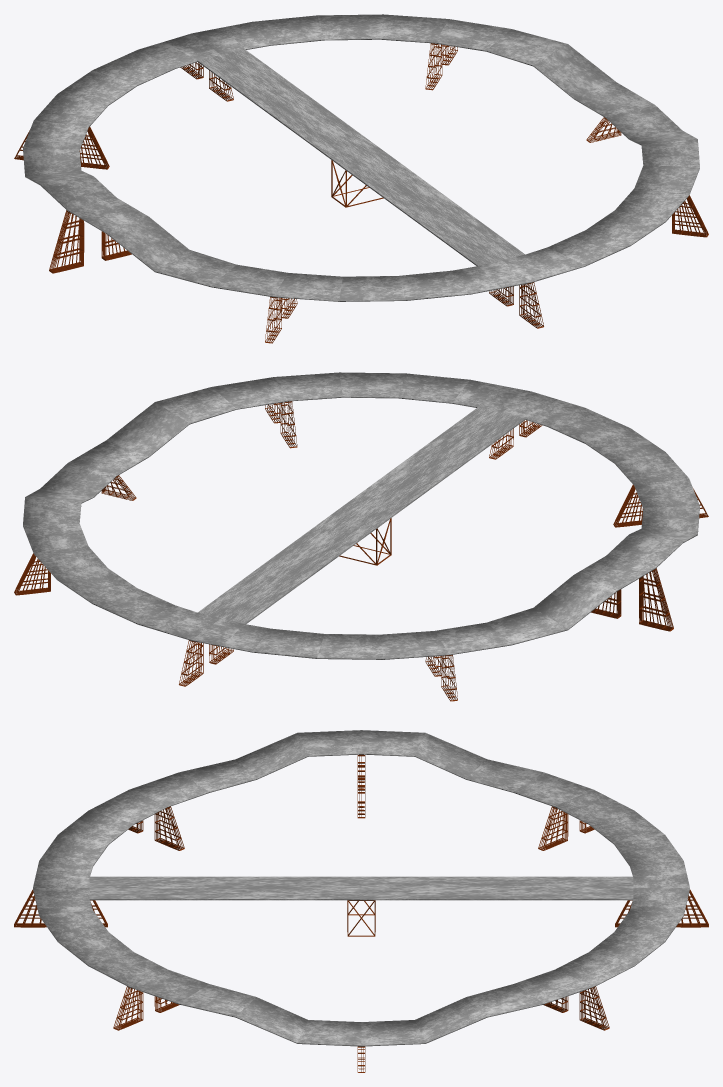
File: World.gltf
The picture shows the model from 3 angles, top to bottom: view 1: azimuth 30°, elevation 25°; view 2: azimuth 150°, elevation 25°; view 3: azimuth 270°, elevation 25°; orthographic projection. The views are drawn at different scales.
Parts seen in each view (by area): view 1: Cube for bridge complete, Cylinder.003, Cylinder.001, Cylinder.004, Cylinder.002, New Strut.008, New Strut.001, New Strut.006, New Strut.005, New Strut.007, New Strut.004, New Strut.003; view 2: Cube for bridge complete, Cylinder.001, Cylinder.003, Cylinder.004, Cylinder.002, New Strut.008, New Strut.003, New Strut.007, New Strut.004, New Strut.006, New Strut.005, New Strut.001; view 3: Cube for bridge complete, Cylinder.002, Cylinder.004, Cylinder.001, Cylinder.003, New Strut.007, New Strut.006, New Strut.005, New Strut.004, New Strut.003, New Strut.001.
Boxes of the visible parts, bbox=[...] form: Cube for bridge complete: bbox=[197, 49, 524, 266]; Cylinder.003: bbox=[273, 188, 689, 301]; Cylinder.001: bbox=[34, 14, 448, 127]; Cylinder.004: bbox=[23, 120, 287, 297]; Cylinder.002: bbox=[434, 19, 699, 194]; New Strut.008: bbox=[49, 210, 131, 273]; New Strut.001: bbox=[489, 282, 543, 328]; New Strut.006: bbox=[672, 195, 708, 237]; New Strut.005: bbox=[265, 297, 297, 343]; New Strut.007: bbox=[425, 43, 457, 90]; New Strut.004: bbox=[14, 127, 109, 169]; New Strut.003: bbox=[180, 62, 233, 101]; Cube for bridge complete: bbox=[198, 407, 525, 624]; Cylinder.001: bbox=[33, 546, 449, 659]; Cylinder.003: bbox=[274, 372, 688, 485]; Cylinder.004: bbox=[435, 478, 699, 655]; Cylinder.002: bbox=[23, 377, 288, 552]; New Strut.008: bbox=[591, 568, 673, 631]; New Strut.003: bbox=[179, 640, 233, 686]; New Strut.007: bbox=[14, 553, 50, 595]; New Strut.004: bbox=[425, 655, 457, 701]; New Strut.006: bbox=[265, 401, 297, 448]; New Strut.005: bbox=[613, 485, 708, 527]; New Strut.001: bbox=[489, 420, 542, 459]; Cube for bridge complete: bbox=[89, 876, 633, 900]; Cylinder.002: bbox=[129, 969, 593, 1046]; Cylinder.004: bbox=[129, 730, 593, 807]; Cylinder.001: bbox=[555, 789, 689, 986]; Cylinder.003: bbox=[33, 789, 167, 986]; New Strut.007: bbox=[543, 986, 609, 1030]; New Strut.006: bbox=[113, 986, 179, 1030]; New Strut.005: bbox=[128, 806, 184, 850]; New Strut.004: bbox=[538, 806, 594, 850]; New Strut.003: bbox=[615, 889, 708, 927]; New Strut.001: bbox=[14, 889, 107, 927].
Size of the model in its own units: 50.76 by 4.61 by 50.76.
6 materials, 5 textured.
